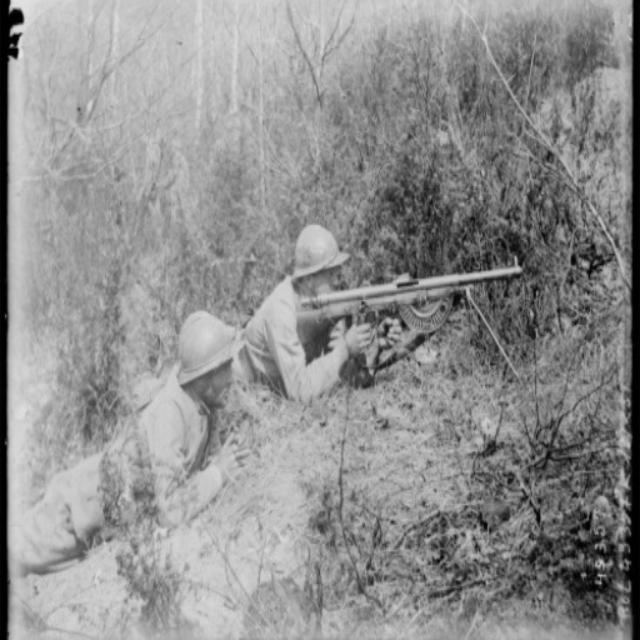other: (11, 316, 233, 560), (238, 223, 378, 394)
